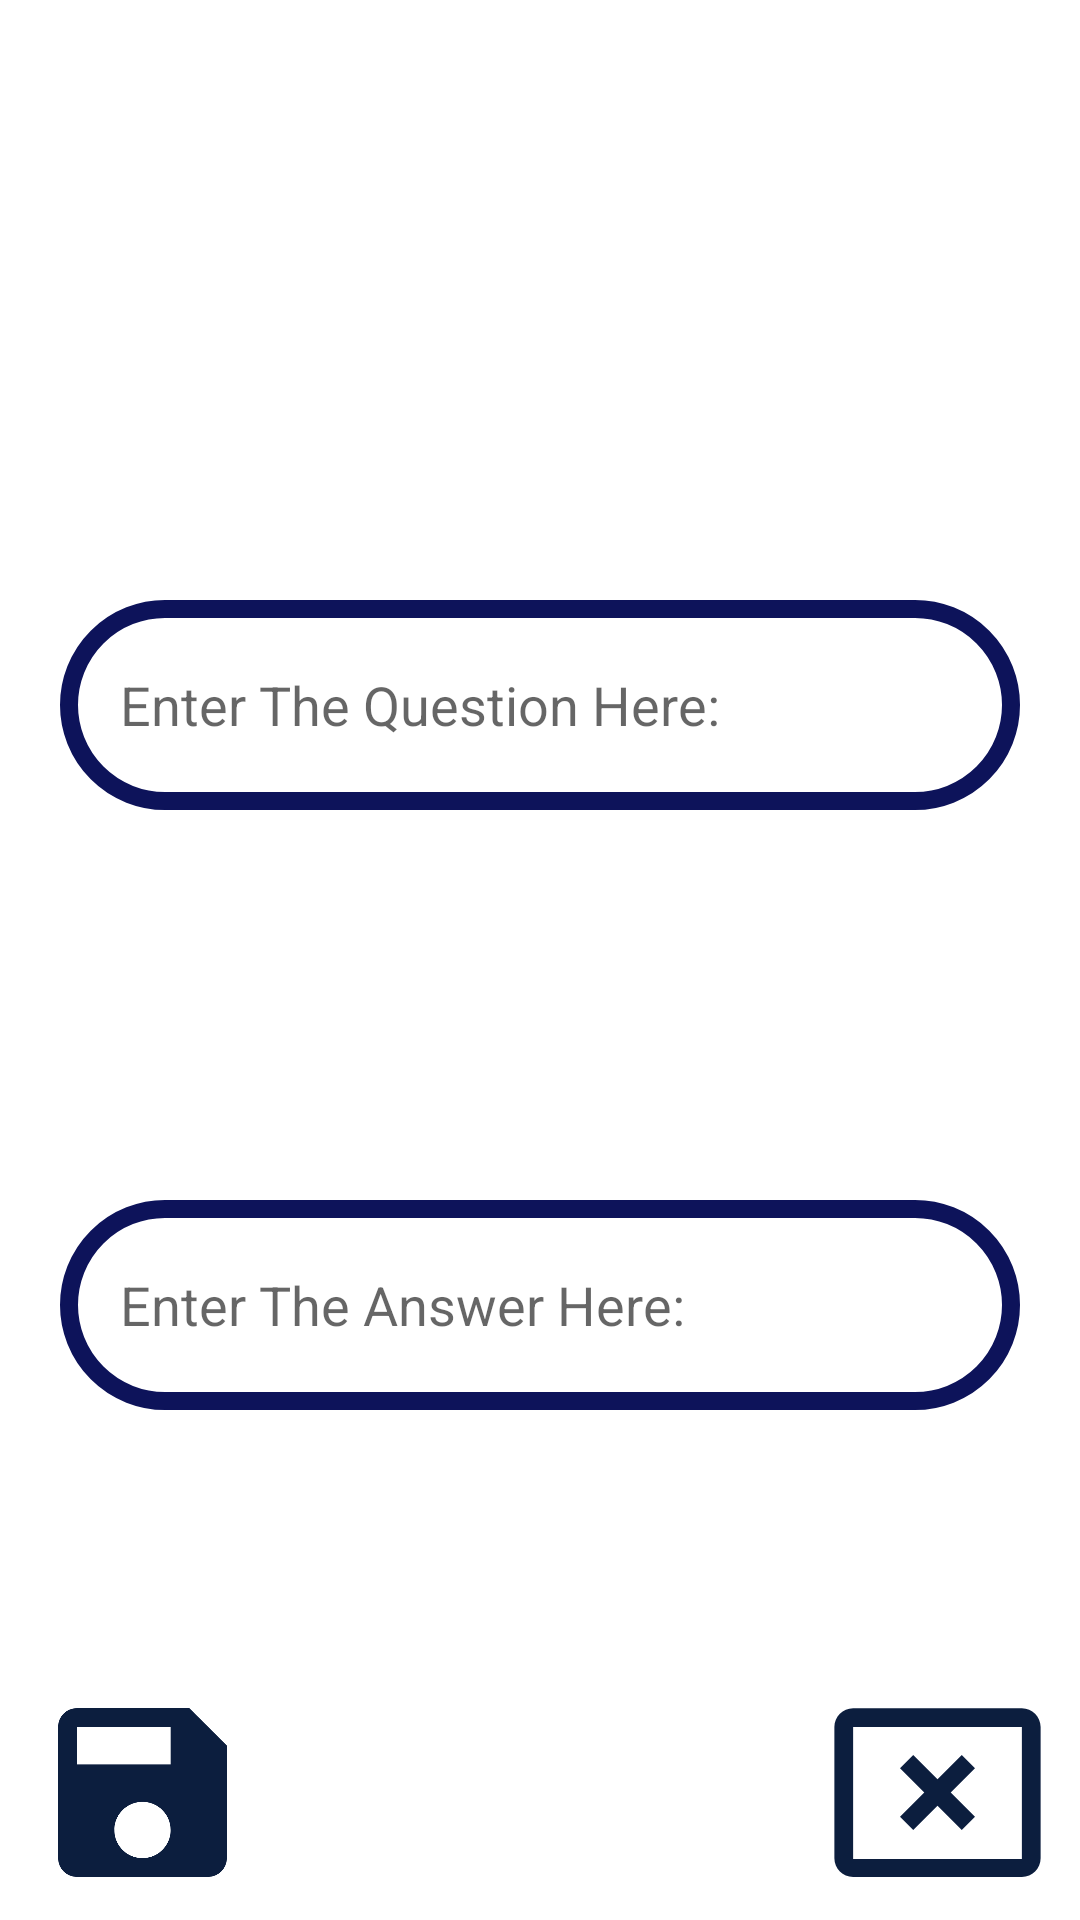

Icons on this 1080 x 1920 Android screen, each with its box as (x1, y1, x2, y2):
cancel: (834, 1708, 1041, 1877)
save: (58, 1708, 227, 1877)
